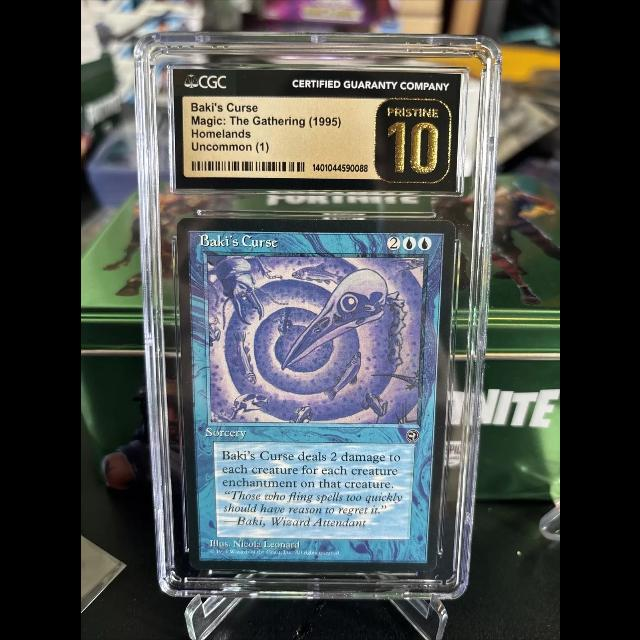card: (176, 218, 457, 572)
cgc_label: (172, 68, 462, 192)
cgc_slab: (132, 31, 505, 601)
